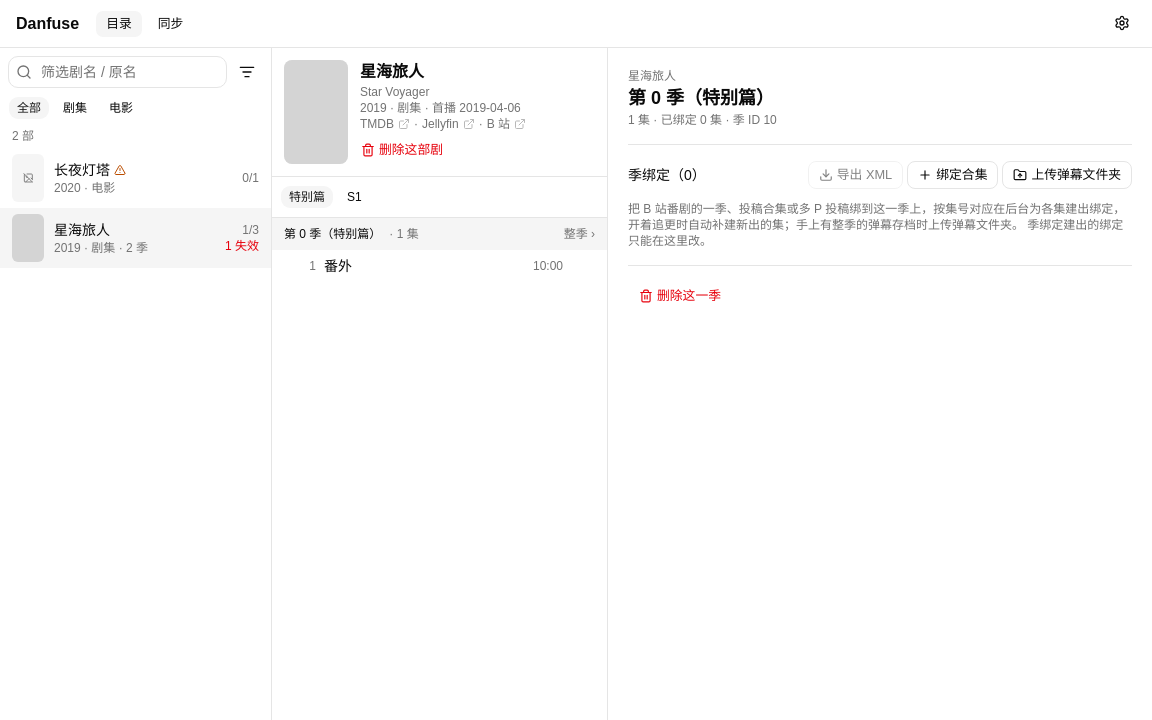
Test: CatalogView › 点集打开集面板，点季标题行回到季面板
Expected: the heading "第 0 季（特别篇）" is shown, top-left (628, 88), bottom-right (774, 108)
Click the link "S1" at (354, 197), box top-left (347, 190), bottom-right (362, 204)
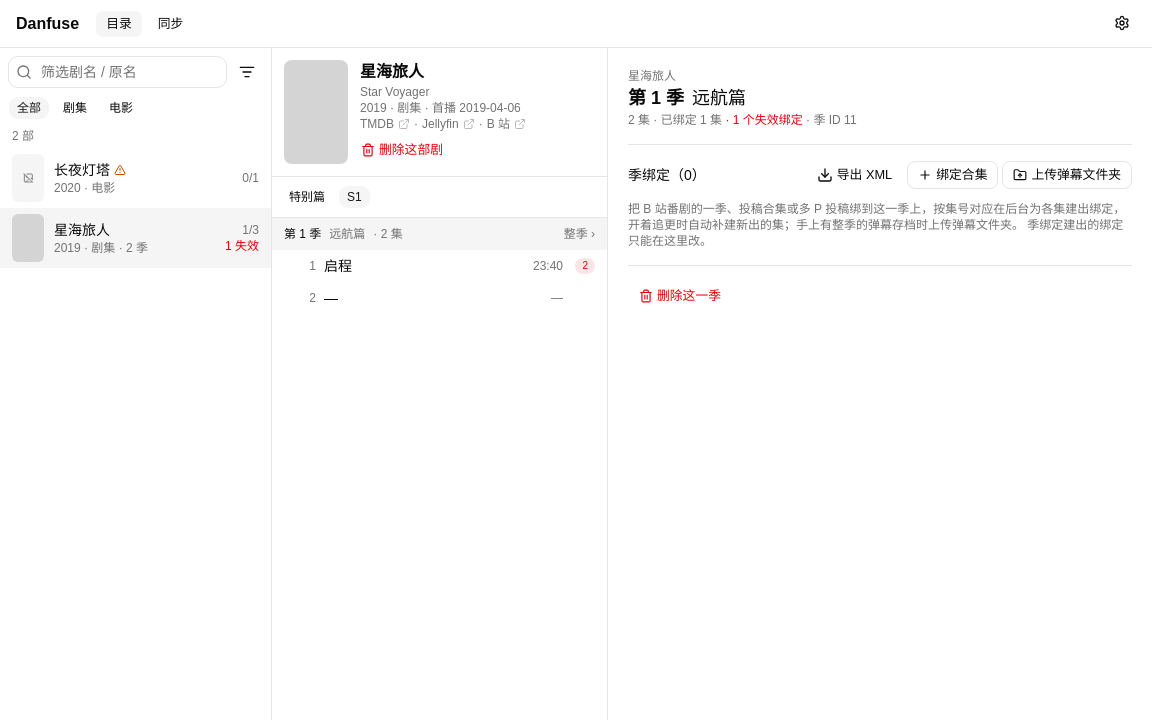
Click the link "1 启程 23:40 2" at (548, 266), box top-left (309, 258), bottom-right (595, 274)
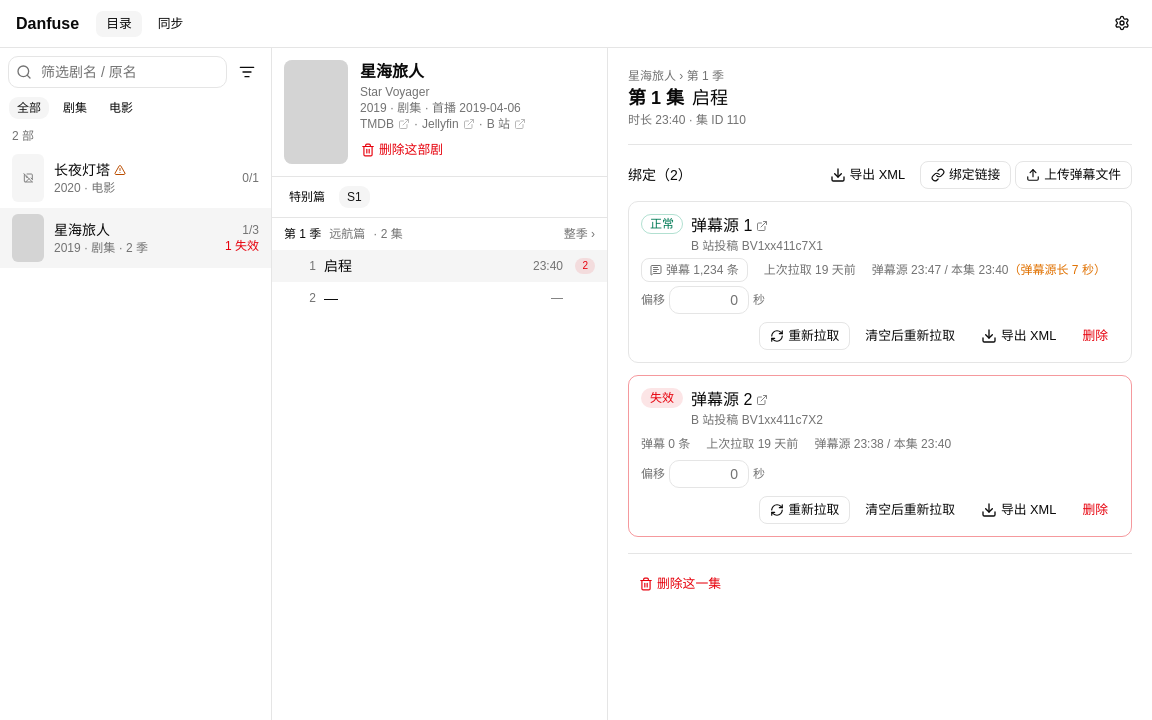
Expected: the text "星海旅人 › 第 1 季" is shown, top-left (628, 69), bottom-right (724, 83)
Expected: the heading "第 1 集启程" is shown, top-left (628, 88), bottom-right (728, 108)
Expected: the text "时长 23:40 · 集 ID 110" is shown, top-left (628, 113), bottom-right (746, 127)
Click the link titled "查看整季" at (303, 234), box top-left (284, 227), bottom-right (595, 241)
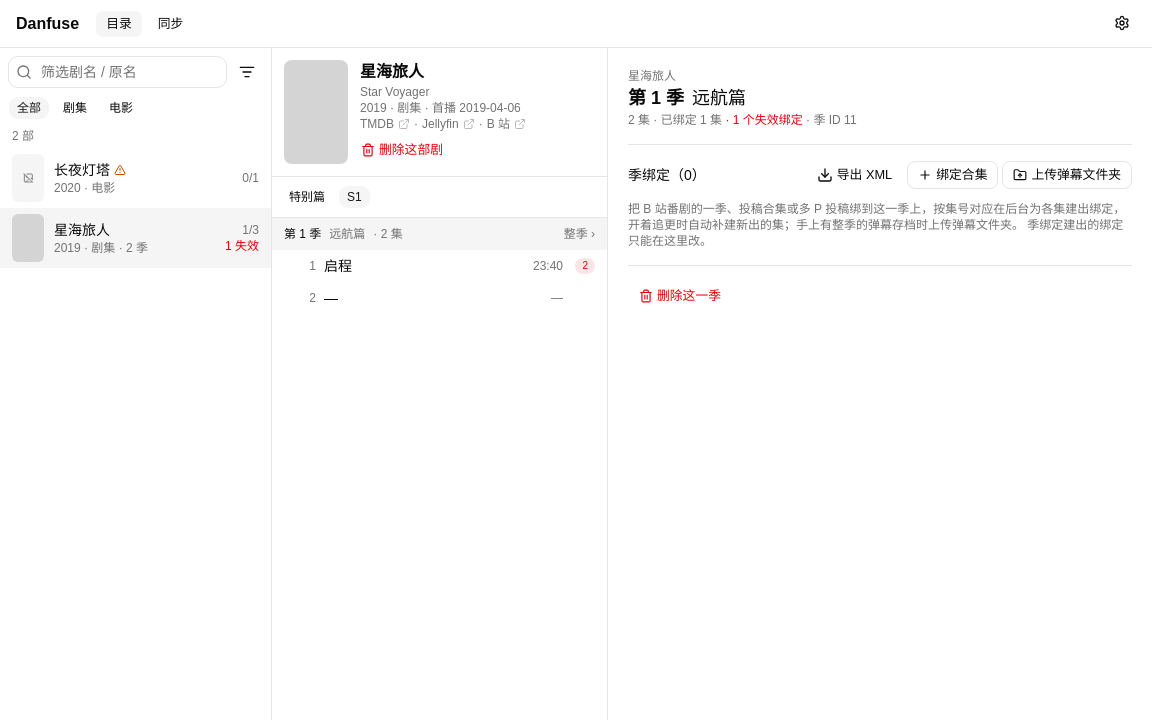
Expected: the text "2 集 · 已绑定 1 集 · 1 个失效绑定 · 季 ID 11" is shown, top-left (628, 113), bottom-right (857, 127)
